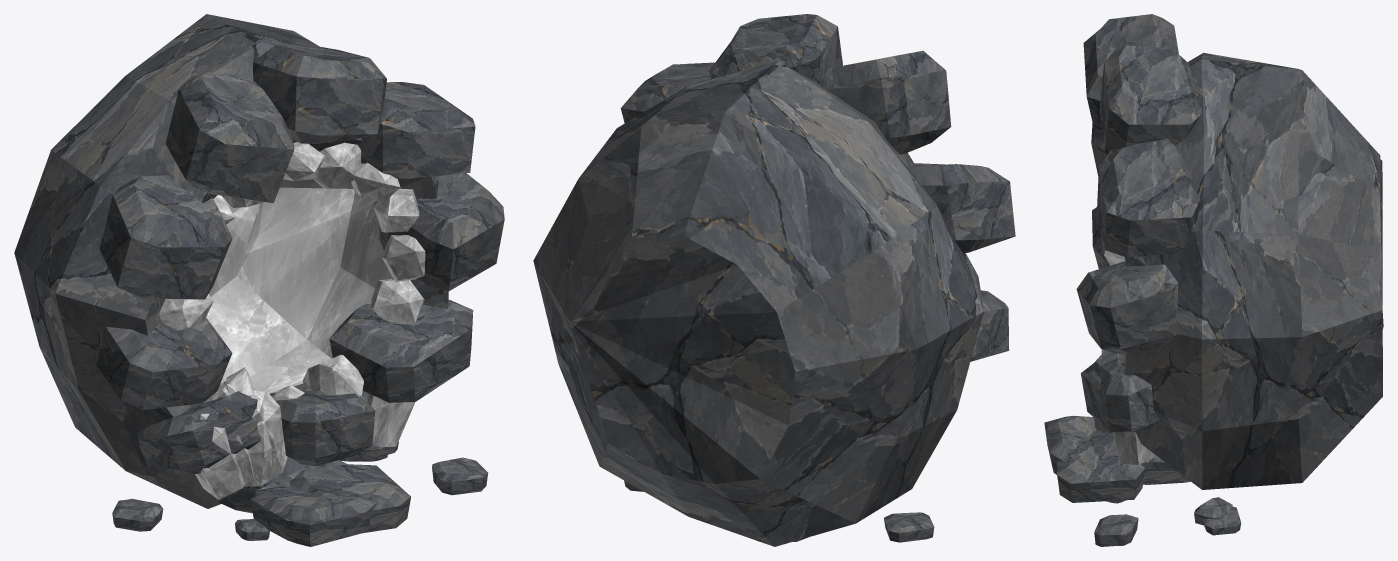
The model's file is Ore_Y5.fbx.
The picture shows the model from 3 angles, left to right: view 1: azimuth 30°, elevation 25°; view 2: azimuth 150°, elevation 25°; view 3: azimuth 270°, elevation 25°; orthographic projection. The views are drawn at different scales.
Visible parts, largest first — view 1: Ore_Y5_LOD0; view 2: Ore_Y5_LOD0; view 3: Ore_Y5_LOD0.
Part boxes in pixels (<box>): Ore_Y5_LOD0: <box>14,14,504,546</box>; Ore_Y5_LOD0: <box>533,14,1015,546</box>; Ore_Y5_LOD0: <box>1044,14,1383,546</box>.
Size of what is drawn, in the model's own units: 1.81 by 2.01 by 1.42.
Materials: 2 (2 with a texture image).
